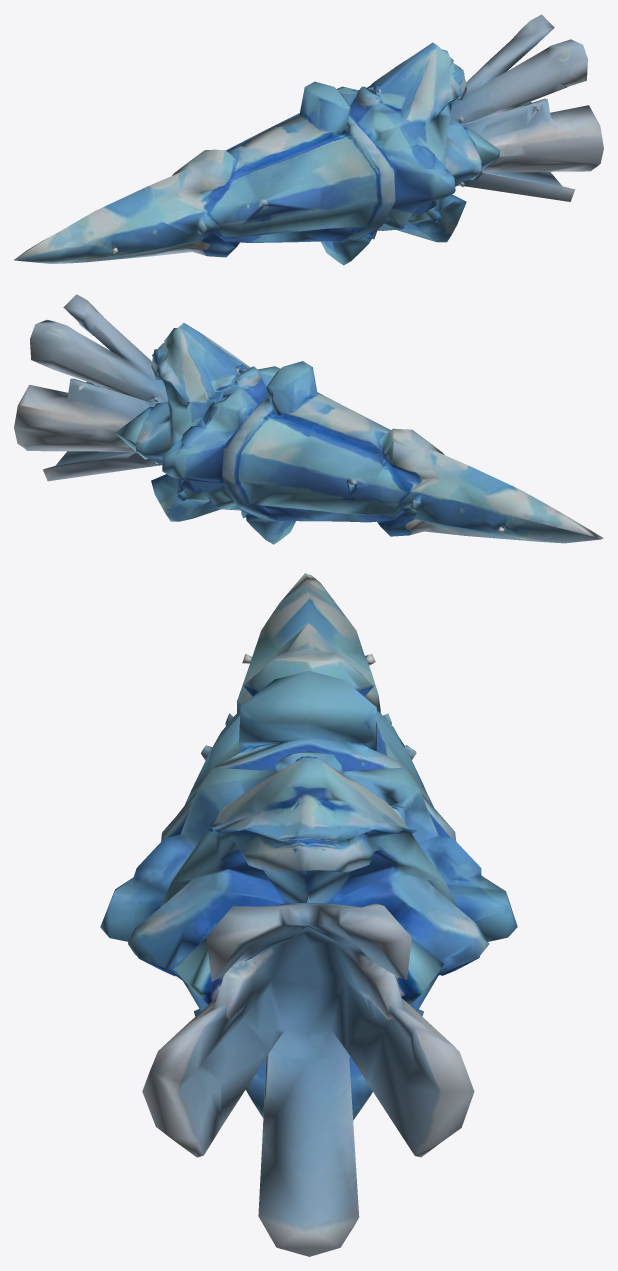
File: ice_z.glb
3 renders of one model, top to bottom at view 1: azimuth 30°, elevation 25°; view 2: azimuth 150°, elevation 25°; view 3: azimuth 270°, elevation 25°, orthographic. The views are drawn at different scales.
Parts seen in each view (by area): view 1: tripo_node_ff877292-6cf5-4acf-92fe-8a8e0aae99aa; view 2: tripo_node_ff877292-6cf5-4acf-92fe-8a8e0aae99aa; view 3: tripo_node_ff877292-6cf5-4acf-92fe-8a8e0aae99aa.
Boxes of the visible parts, <box> form: tripo_node_ff877292-6cf5-4acf-92fe-8a8e0aae99aa: <box>14,14,603,265</box>; tripo_node_ff877292-6cf5-4acf-92fe-8a8e0aae99aa: <box>14,294,603,544</box>; tripo_node_ff877292-6cf5-4acf-92fe-8a8e0aae99aa: <box>100,573,517,1256</box>.
Size of the model in its own units: 0.9789 by 0.3382 by 0.3228.
Materials: 1 (1 with a texture image).
